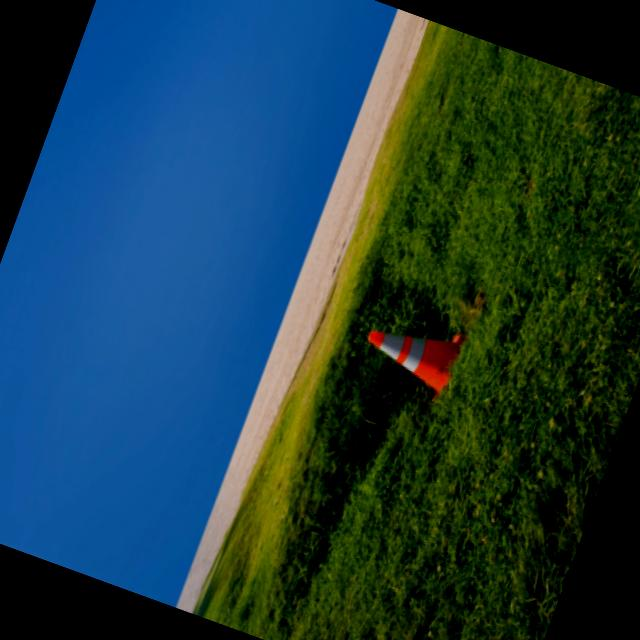cone: (338, 276, 489, 421)
